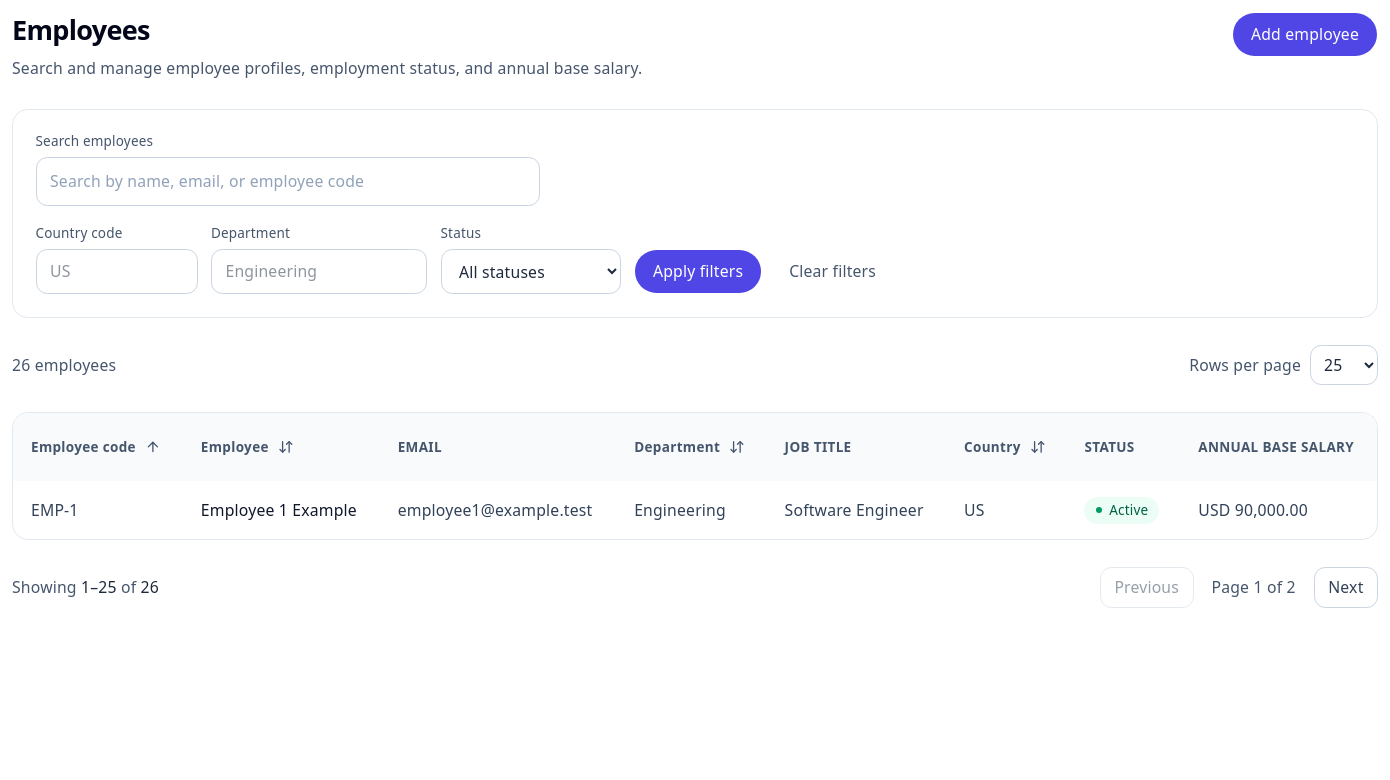
Test: employee directory › requests the next server page when pagination advances
The width and height of the screenshot is (1390, 780).
Expected: the link "Employee 1 Example" is shown, [201,499,357,521]
Step 1. Click the button "Next" → (1346, 588), box [1314,567,1378,608]
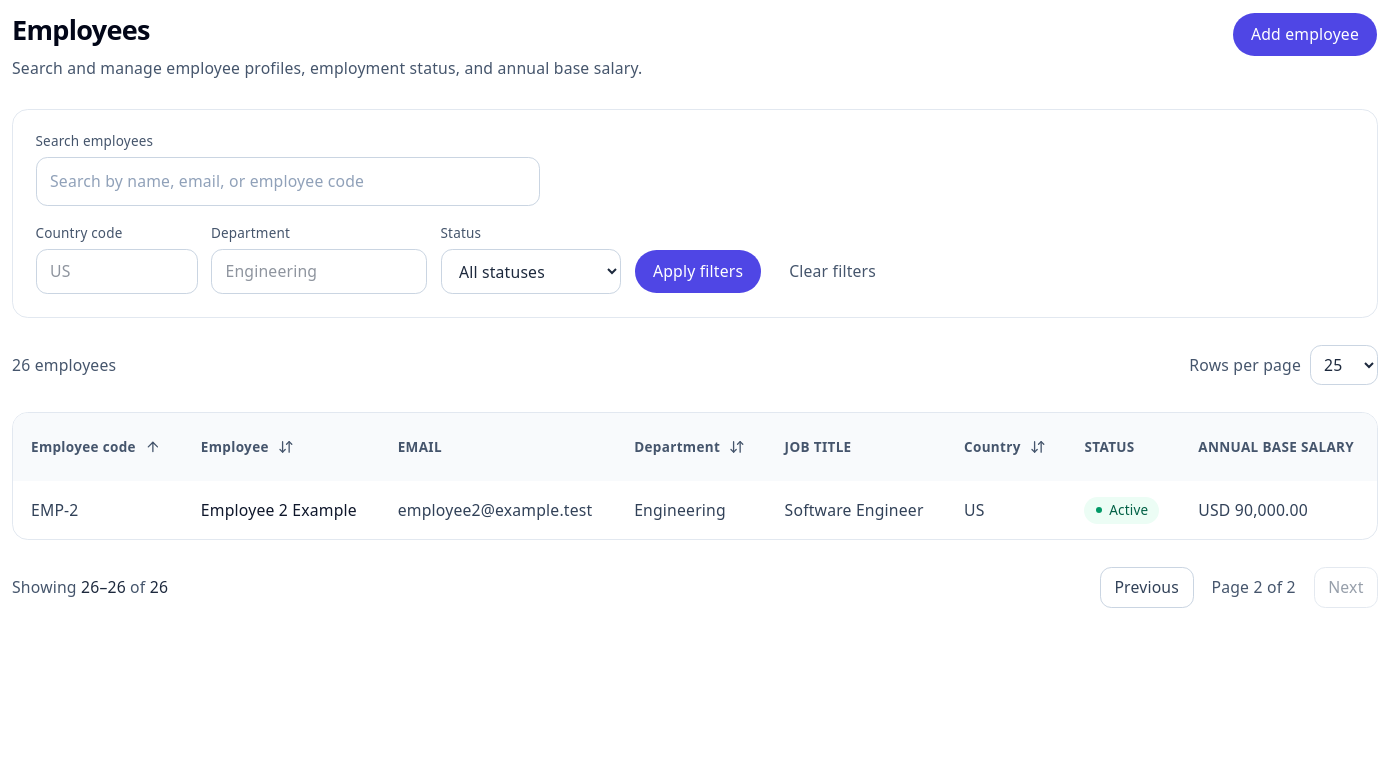
Expected: the link "Employee 2 Example" is shown, [201,499,357,521]
